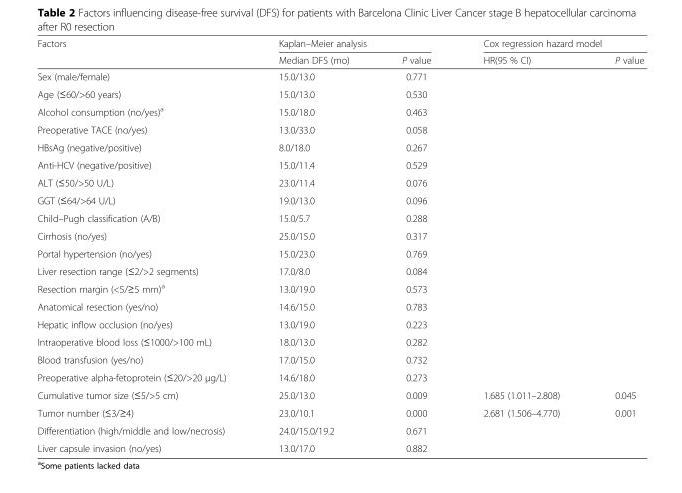table: (36, 37, 643, 453)
table column: (36, 37, 251, 453), (456, 37, 586, 453), (251, 37, 374, 453), (374, 37, 456, 453), (586, 37, 643, 453)
table column header: (36, 37, 643, 67)
table row: (36, 101, 643, 120), (36, 120, 643, 138), (36, 155, 643, 173), (36, 173, 643, 191), (36, 191, 643, 209), (36, 226, 643, 244), (36, 261, 643, 279), (36, 279, 643, 297), (36, 297, 643, 315), (36, 332, 643, 350), (36, 367, 643, 385), (36, 385, 643, 403), (36, 403, 643, 421), (36, 421, 643, 439), (36, 67, 643, 84), (36, 84, 643, 101), (36, 138, 643, 155), (36, 209, 643, 226), (36, 244, 643, 261), (36, 315, 643, 332), (36, 350, 643, 367), (36, 51, 643, 67), (36, 37, 643, 51), (36, 439, 643, 453)
table spanning cell: (36, 37, 251, 67), (251, 37, 456, 51), (456, 37, 643, 51)
